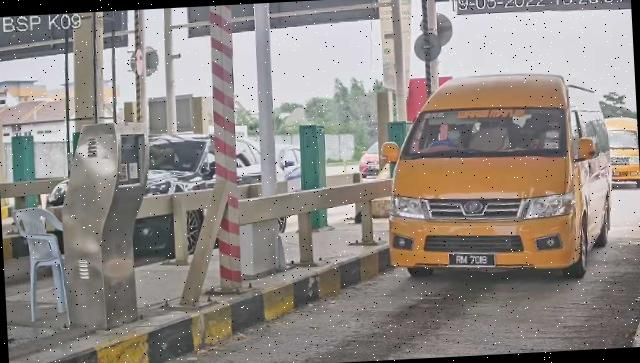License_Plate: (448, 251, 498, 274)
van: (381, 68, 618, 290)
